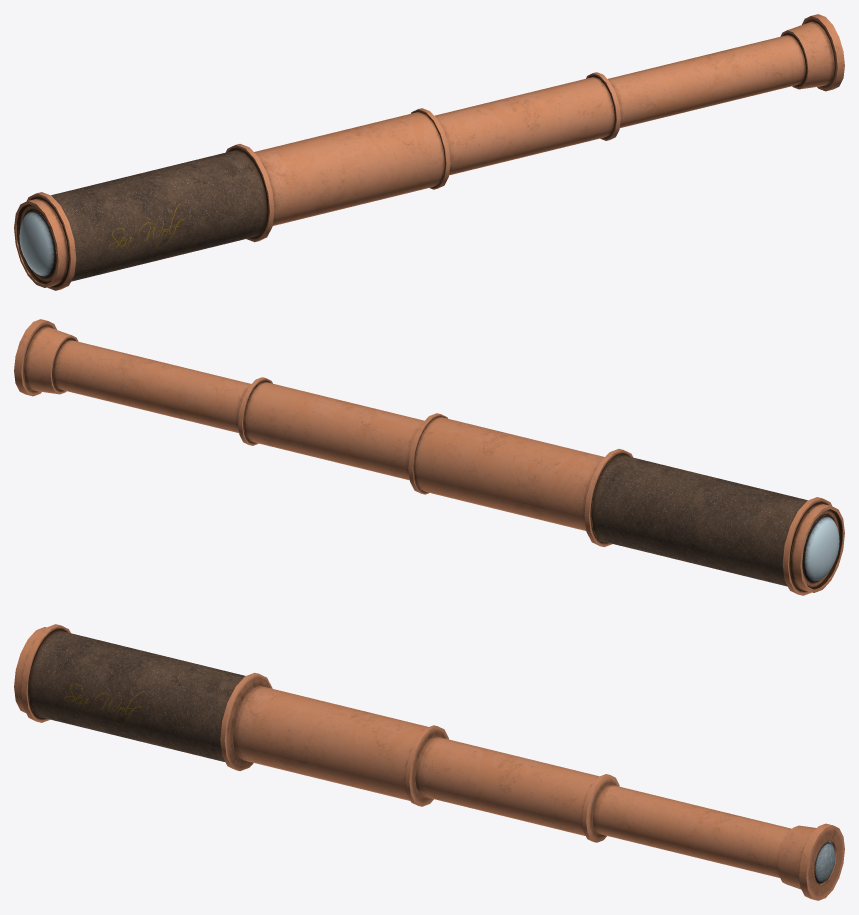
The model's file is Spyglass_J.fbx.
3 renders of one model, top to bottom at view 1: azimuth 30°, elevation 25°; view 2: azimuth 150°, elevation 25°; view 3: azimuth 330°, elevation 25°, orthographic.
Parts seen in each view (by area): view 1: Spyglass, SpyglassGlassBig; view 2: Spyglass, SpyglassGlassBig; view 3: Spyglass, SpyglassGlassSmall.
Boxes of the visible parts, x1,y1,x2,y2 form: Spyglass: [14, 14, 844, 290]; SpyglassGlassBig: [19, 210, 56, 277]; Spyglass: [14, 319, 844, 595]; SpyglassGlassBig: [802, 515, 839, 582]; Spyglass: [14, 624, 844, 900]; SpyglassGlassSmall: [814, 841, 835, 884].
Bounding box in the file's own units: 137 × 14.84 × 14.84.
